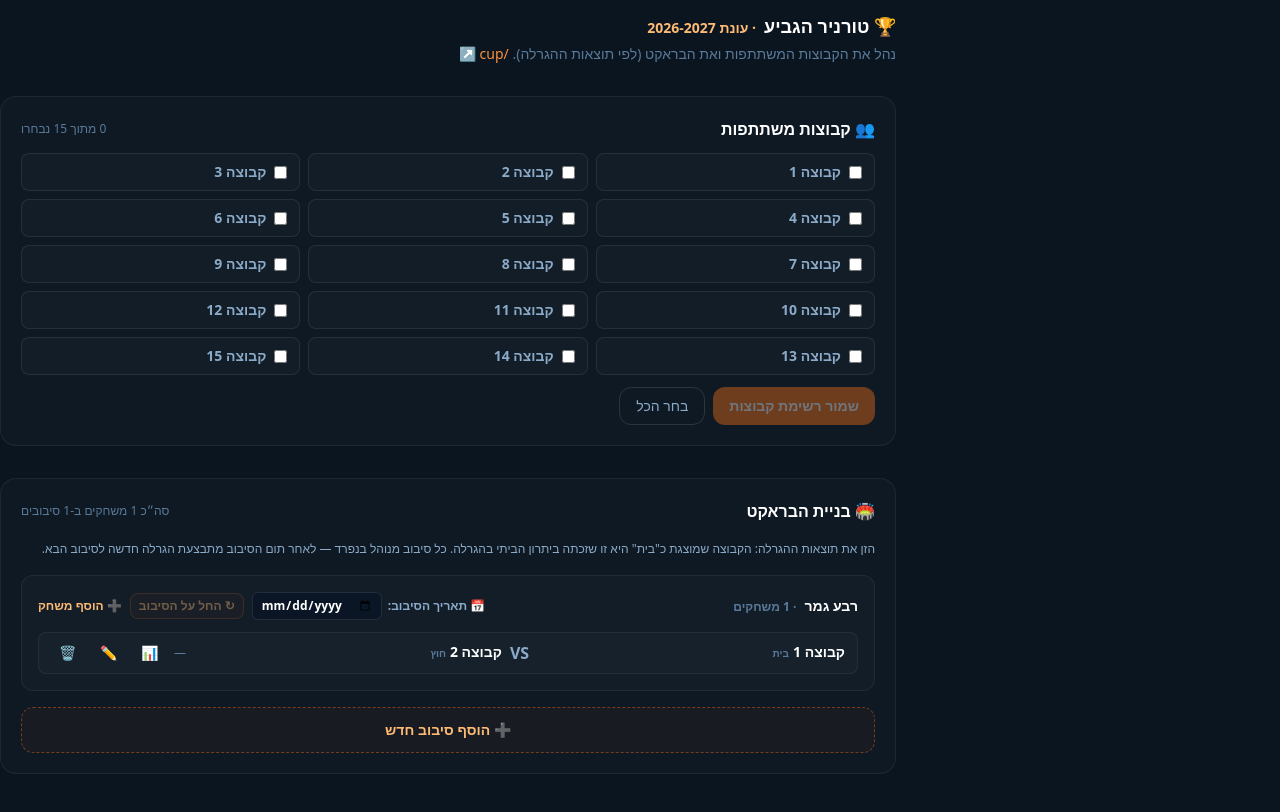
Test: CupTab — Excel stats import for a cup game › offers the template download and upload in the game stats panel
This screenshot has width=1280, height=812.
Click the button titled "סטטיסטיקת שחקנים ורבעים": (150, 652) [133,640,166,664]
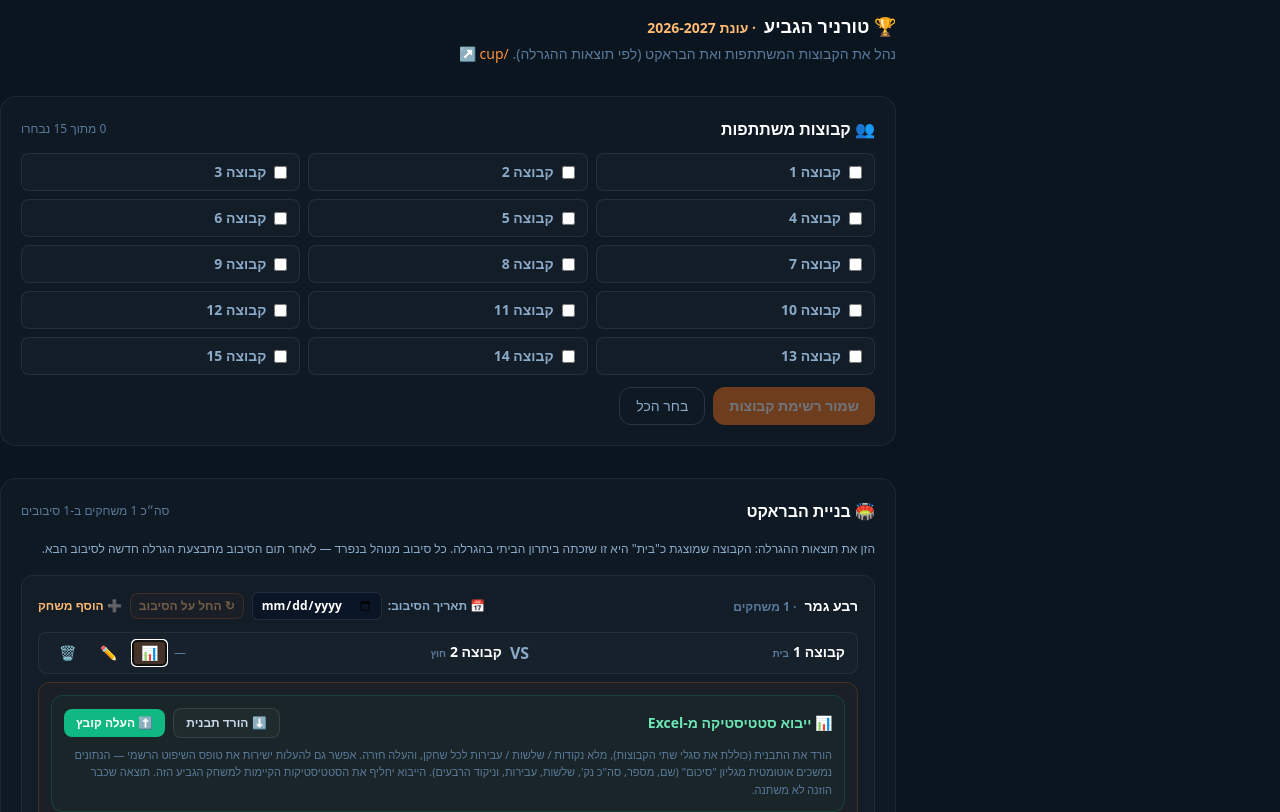
Expected: the text "📊 ייבוא סטטיסטיקה מ-Excel" is shown, [648,712,832,732]
